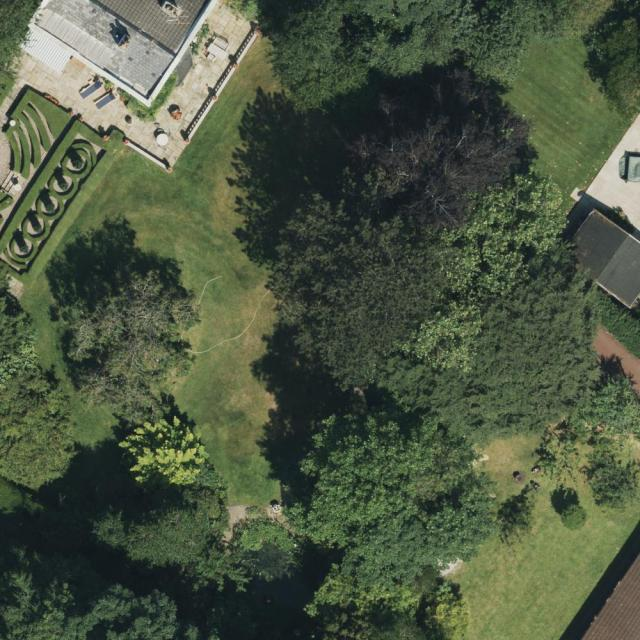roof: (27, 0, 224, 102), (557, 211, 640, 311)
